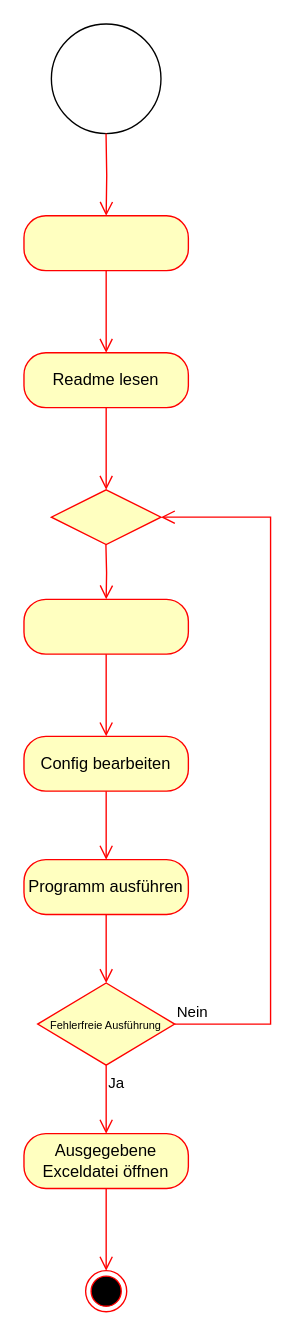
Some shapes in this 308 by 1336 pixel diagram are drawn without their labels. The centre of each missing label's shape, as x and y in pixels:
Programmordner Öffnen: the point at 105,242
Projektdaten in den Ordner "data" einfügen: the point at 105,626
